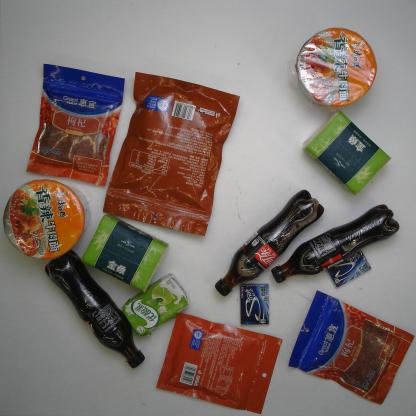Dried Food: (102, 69, 240, 238)
Dried Fruit: (288, 289, 415, 406), (154, 312, 284, 414), (24, 61, 126, 188)
Drink: (43, 248, 146, 370), (214, 188, 324, 298), (271, 203, 401, 284)
Gum: (324, 248, 372, 288), (238, 282, 270, 326)
Instant Noodles: (2, 178, 92, 262), (295, 27, 377, 108)
Milk: (122, 272, 189, 338)
Tissue: (301, 109, 392, 196), (79, 214, 169, 295)
